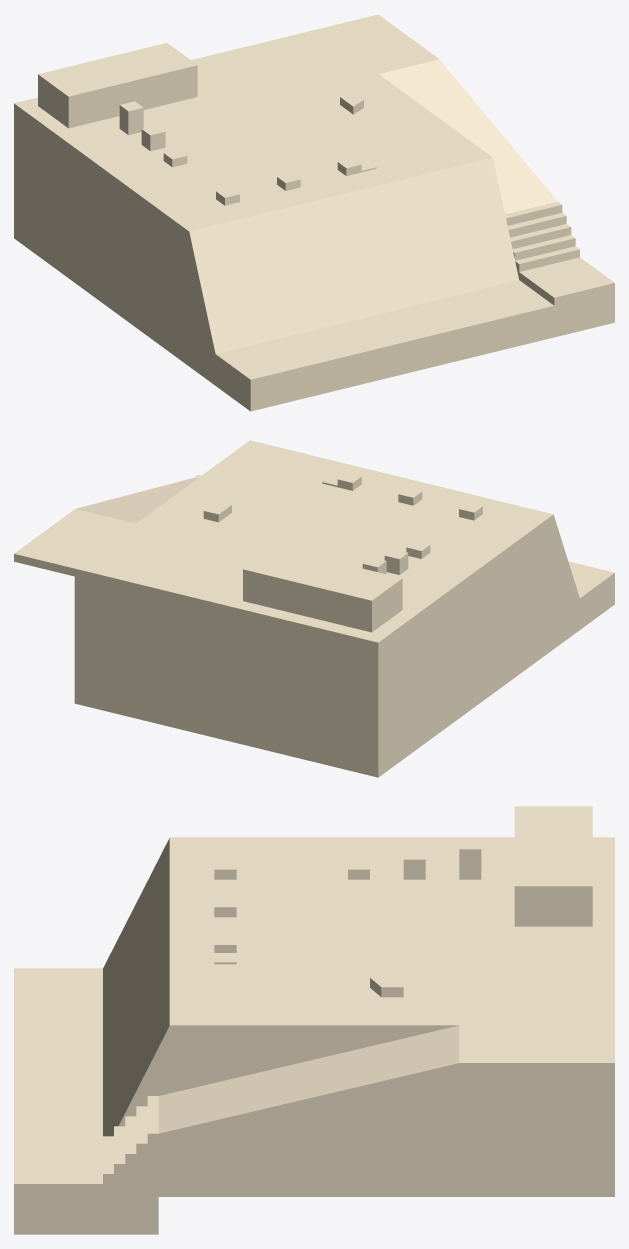
Rendered from playground.glb.
3 views of the same model, one above another, from view 1: azimuth 30°, elevation 25°; view 2: azimuth 150°, elevation 25°; view 3: azimuth 270°, elevation 25° (orthographic). The views are drawn at different scales.
Visible parts, largest first — view 1: Wall; view 2: Wall; view 3: Wall.
Boxes of the visible parts, x1,y1,x2,y2 form: Wall: [14, 14, 614, 411]; Wall: [14, 440, 614, 777]; Wall: [14, 806, 614, 1234].
Size of the model in its own units: 48 by 21 by 54.
